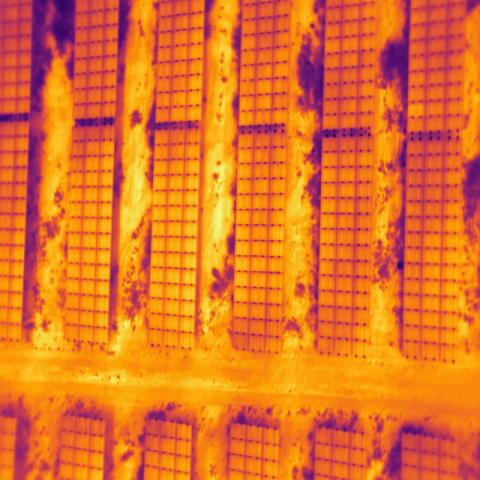fault: (408, 102, 426, 118)
